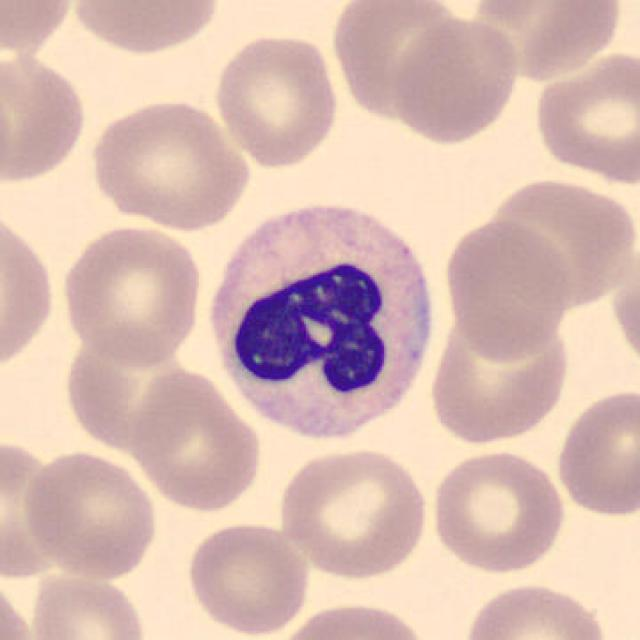Neutrophil: (201, 194, 443, 455)
RBC: (85, 95, 252, 231), (57, 220, 206, 368), (276, 444, 432, 582), (478, 174, 636, 308), (128, 363, 265, 515), (427, 310, 574, 448), (439, 215, 574, 362), (20, 446, 160, 582), (210, 30, 341, 171), (427, 446, 569, 575), (389, 12, 523, 146), (329, 0, 469, 125), (181, 518, 313, 638), (530, 46, 638, 187), (466, 0, 626, 83), (0, 44, 91, 187), (551, 384, 638, 520), (0, 205, 59, 379), (0, 437, 69, 580), (459, 578, 613, 640), (25, 567, 153, 640), (69, 0, 223, 56), (274, 597, 432, 640), (0, 0, 76, 60), (608, 268, 638, 376), (0, 573, 39, 640)
